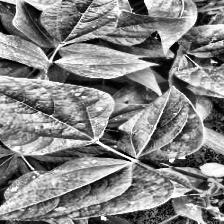Bean Rust: (0, 158, 174, 224), (0, 65, 112, 151)
